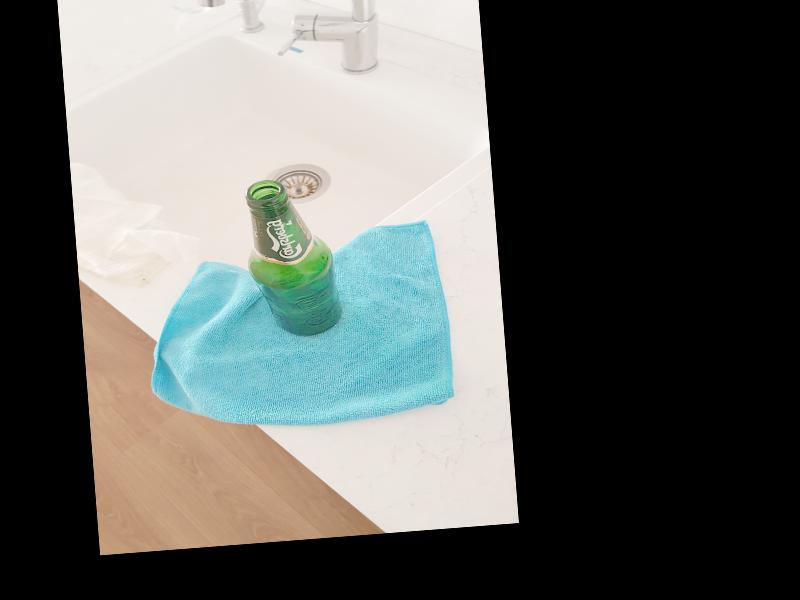Beer: (241, 177, 341, 342)
